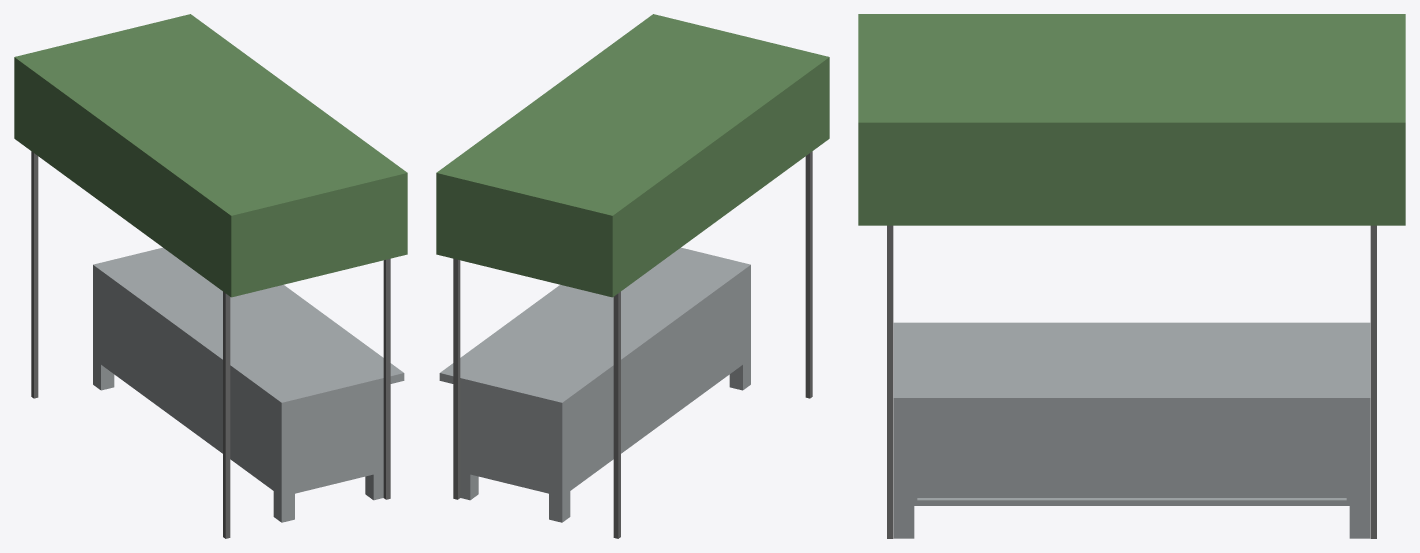
The model's file is booth1.1.fbx.
The picture shows the model from 3 angles, left to right: view 1: azimuth 30°, elevation 25°; view 2: azimuth 150°, elevation 25°; view 3: azimuth 270°, elevation 25°; orthographic projection. The views are drawn at different scales.
Parts seen in each view (by area): view 1: Cube.001, Cube.002, Cube.003; view 2: Cube.001, Cube.002, Cube.003; view 3: Cube.001, Cube.002, Cube.003.
Boxes of the visible parts, x1,y1,x2,y2 form: Cube.001: (14, 14, 407, 297); Cube.002: (93, 247, 404, 522); Cube.003: (31, 151, 390, 538); Cube.001: (436, 14, 829, 297); Cube.002: (439, 247, 750, 522); Cube.003: (453, 151, 812, 538); Cube.001: (858, 14, 1405, 225); Cube.002: (893, 322, 1370, 538); Cube.003: (887, 225, 1376, 538).
Bounding box in the file's own units: 1244 × 2116 × 2500.
